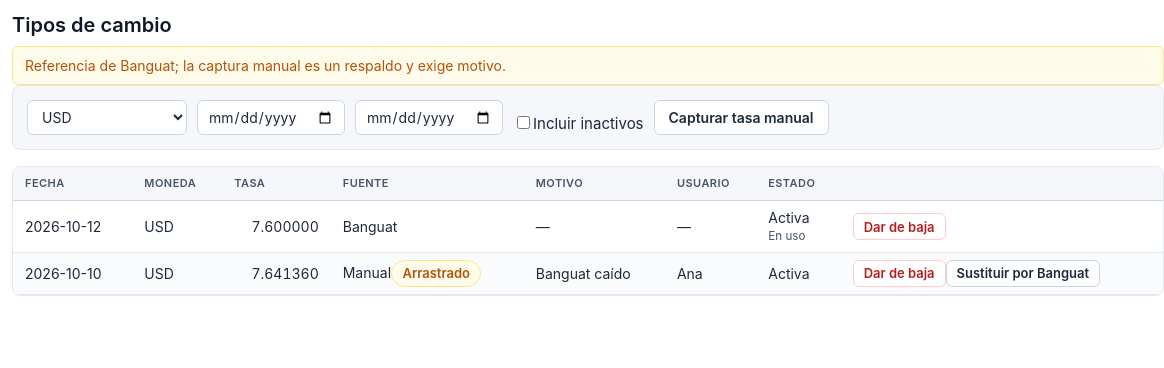
it: TiposCambio › muestra el error si la sustitución por Banguat falla
Expected: the text "7.641360" is shown, [222,253,331,294]
Step 1. Click the button with aria-label "Sustituir por Banguat la tasa del 2026-10-10" → (1023, 274), box [946,260,1100,287]
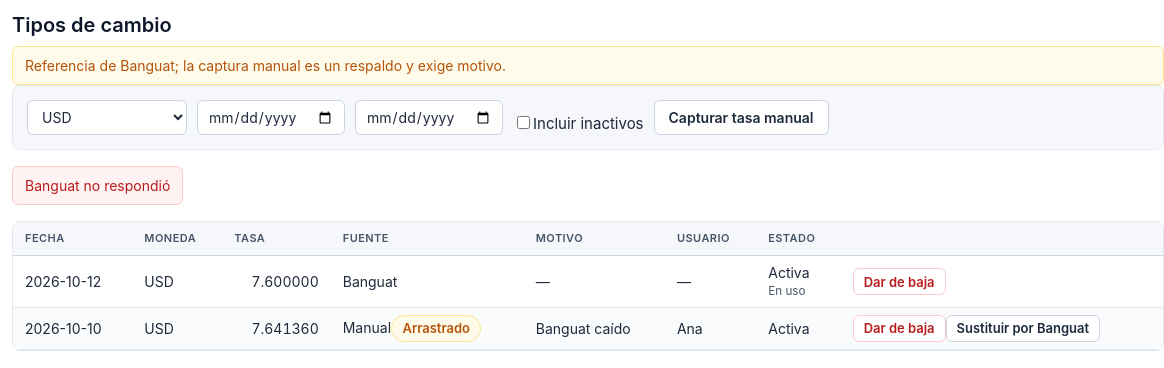
Result: the text "Banguat no respondió" is shown at [12,166,183,205]
